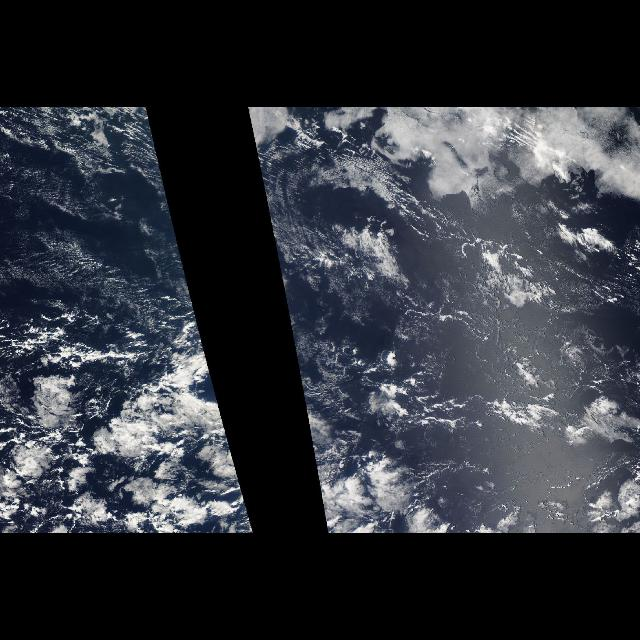Flower: (116, 458, 234, 528)
Gravel: (6, 316, 214, 524)
Sugar: (11, 114, 163, 320)
